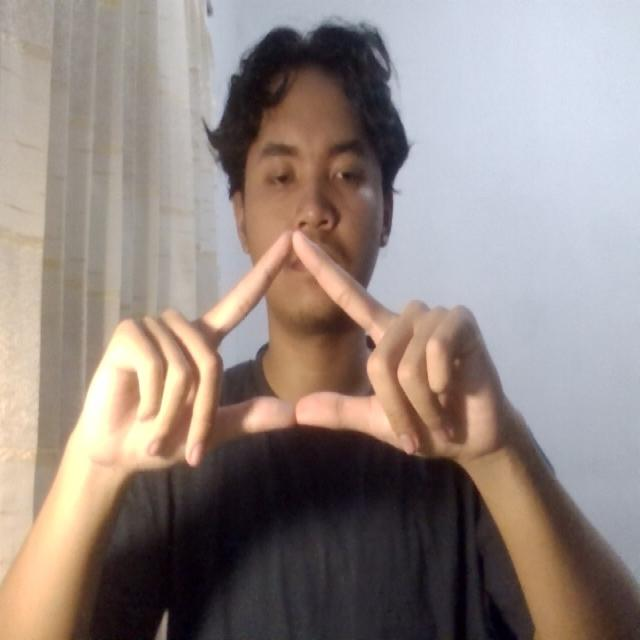A: (78, 220, 519, 488)
